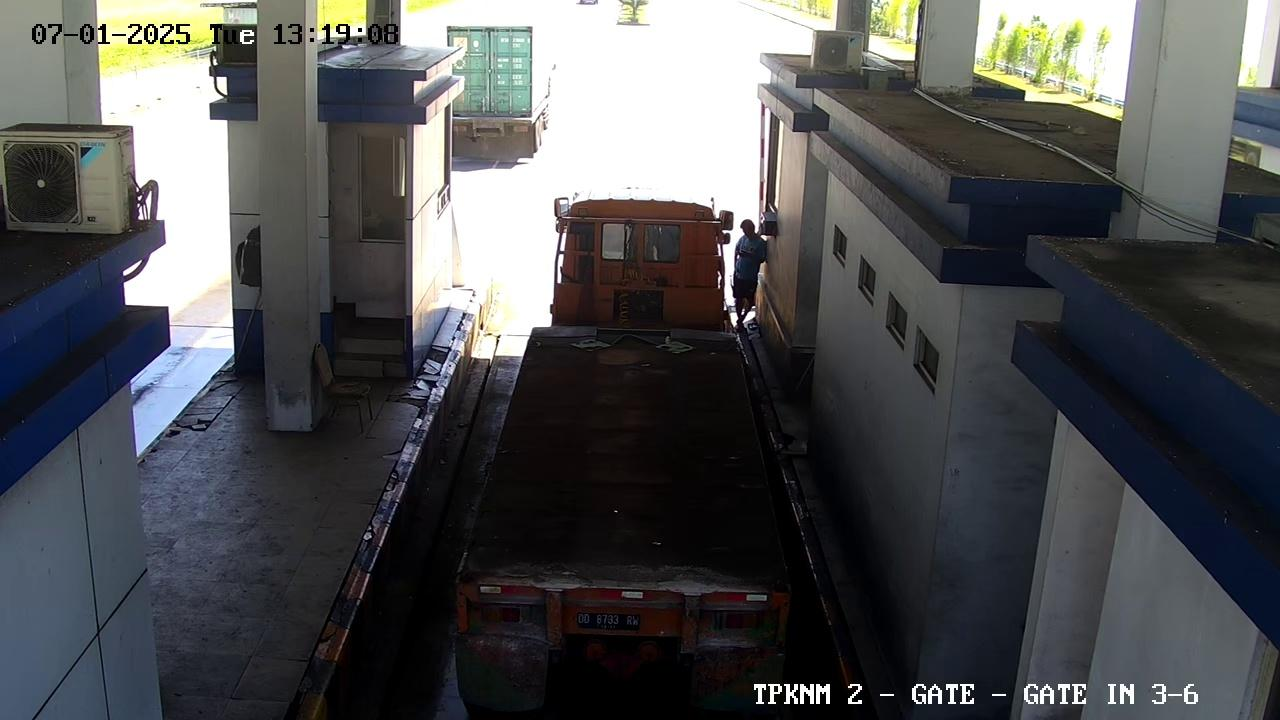plate_number: (555, 601, 661, 645)
